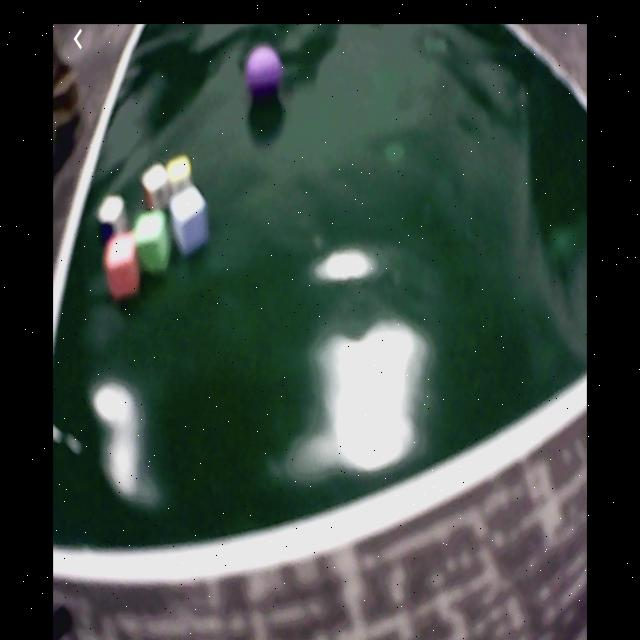ball: (248, 47, 282, 104)
